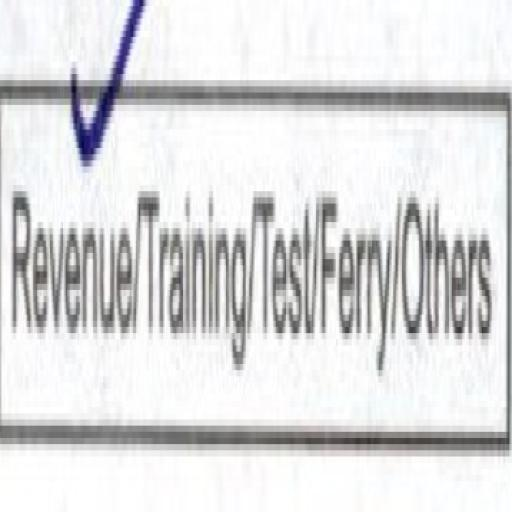check: (0, 0, 136, 450)
